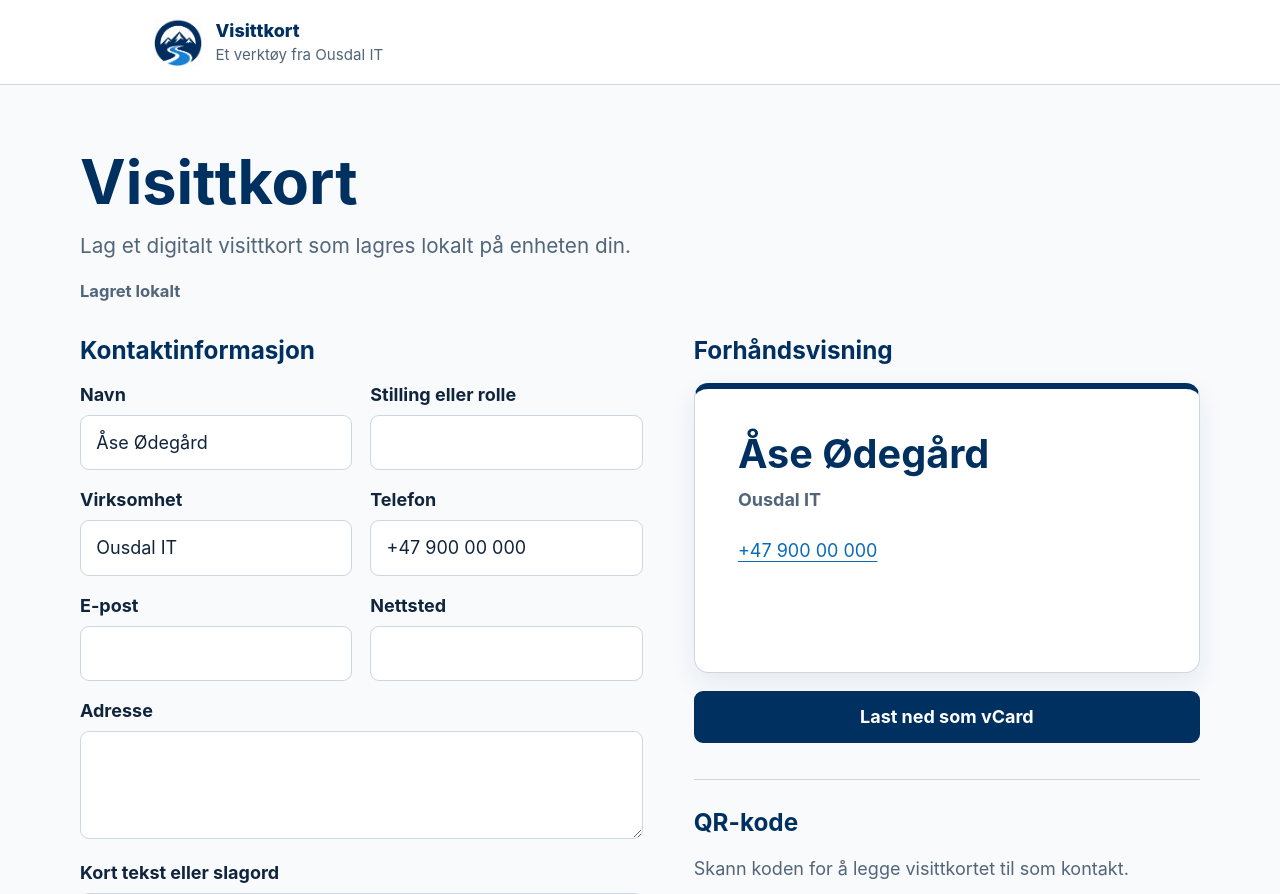
Scenario: vCard export › downloads a UTF-8 vCard with the expected filename and success status
The width and height of the screenshot is (1280, 894).
Click the button "Last ned som vCard". click: (947, 717)
box: [694, 691, 1200, 743]
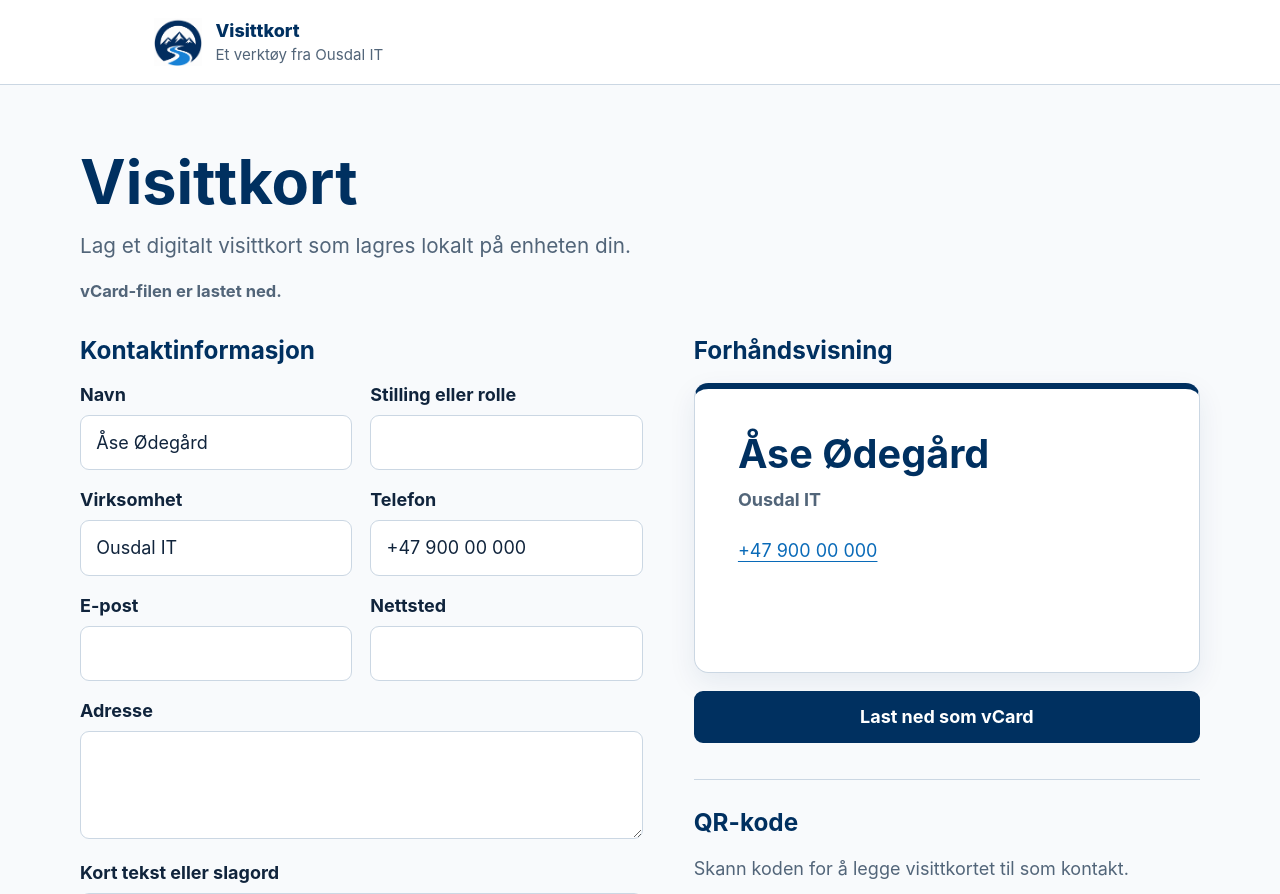
Check: the text "vCard-filen er lastet ned." is shown, box [80, 281, 282, 301]
